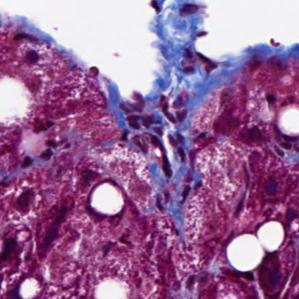inflammation: (125, 104, 199, 173), (243, 114, 273, 167)
